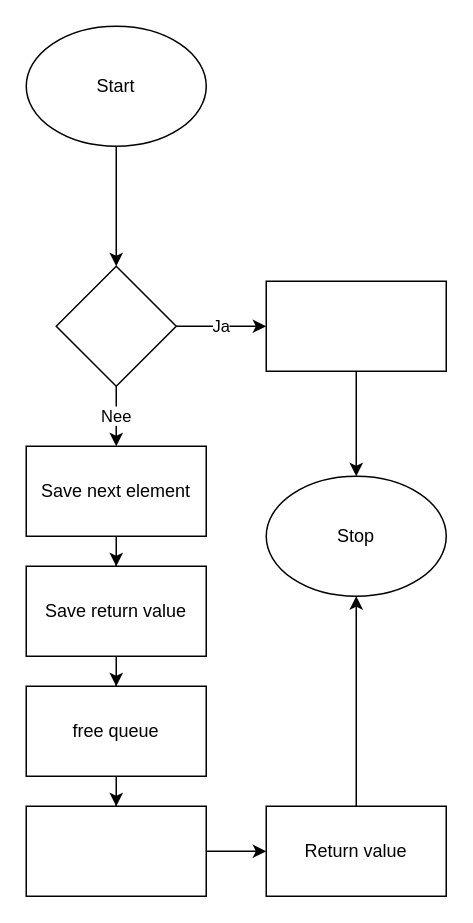
Image size: 473x923. Some labels were removed from this diagram. Each missing label, with the centre of its shape:
"Is queue NULL?" belongs at (115,325).
"Return error empty message" belongs at (355,325).
"Set queue to next element" belongs at (115,850).
